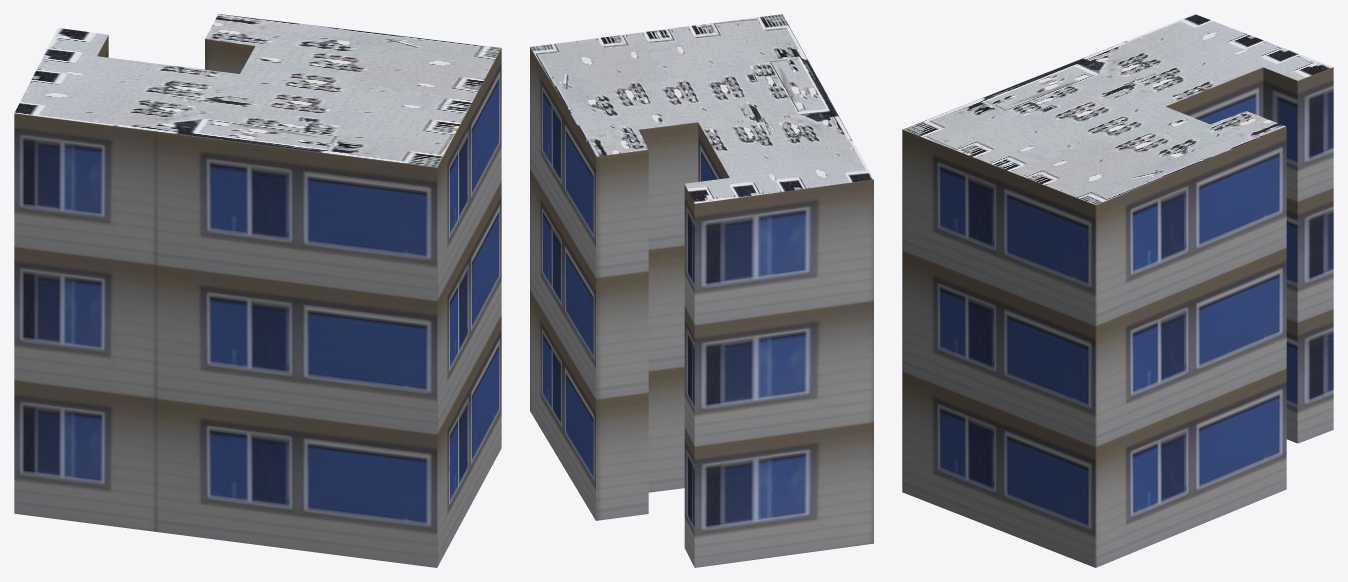
The model's file is ResTex__2320.fbx.
3 views of the same model, side by side, from view 1: azimuth 30°, elevation 25°; view 2: azimuth 150°, elevation 25°; view 3: azimuth 270°, elevation 25° (orthographic). The views are drawn at different scales.
Parts seen in each view (by area): view 1: CityEngineMaterial_23_m, CityEngineMaterial_m; view 2: CityEngineMaterial_23_m, CityEngineMaterial_m; view 3: CityEngineMaterial_23_m, CityEngineMaterial_m.
Boxes of the visible parts, x1,y1,x2,y2 form: CityEngineMaterial_23_m: (14, 35, 501, 567); CityEngineMaterial_m: (14, 14, 501, 167); CityEngineMaterial_23_m: (530, 47, 873, 567); CityEngineMaterial_m: (530, 14, 873, 203); CityEngineMaterial_23_m: (902, 67, 1333, 567); CityEngineMaterial_m: (903, 14, 1333, 205).
Bounding box in the file's own units: 10.18 × 9 × 9.7.
2 materials, 2 textured.
